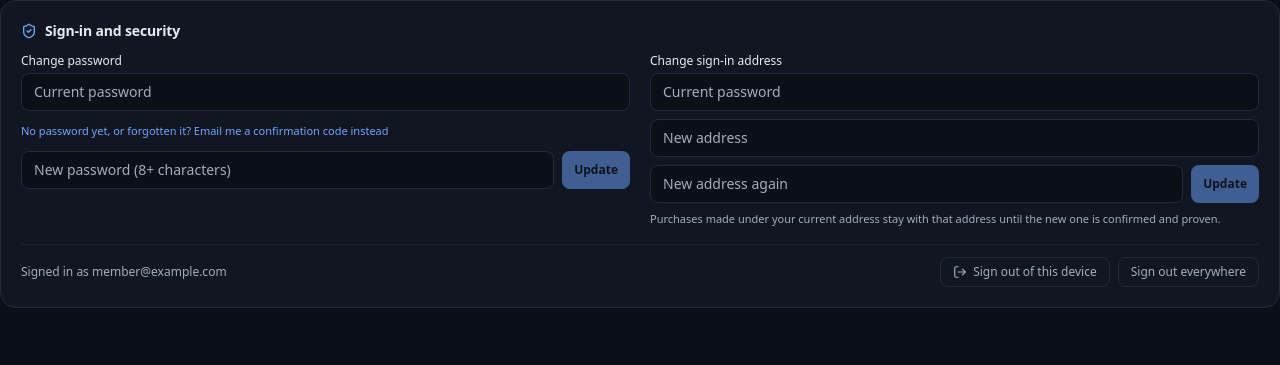
S12-060: a sign-in changes only after the account proves it is the account › once the server asks both addresses, the change needs the current password and the address twice
The width and height of the screenshot is (1280, 365).
Type "new@example.com" into the field labelled "New address" at (954, 138), box [650,119,1259,157]
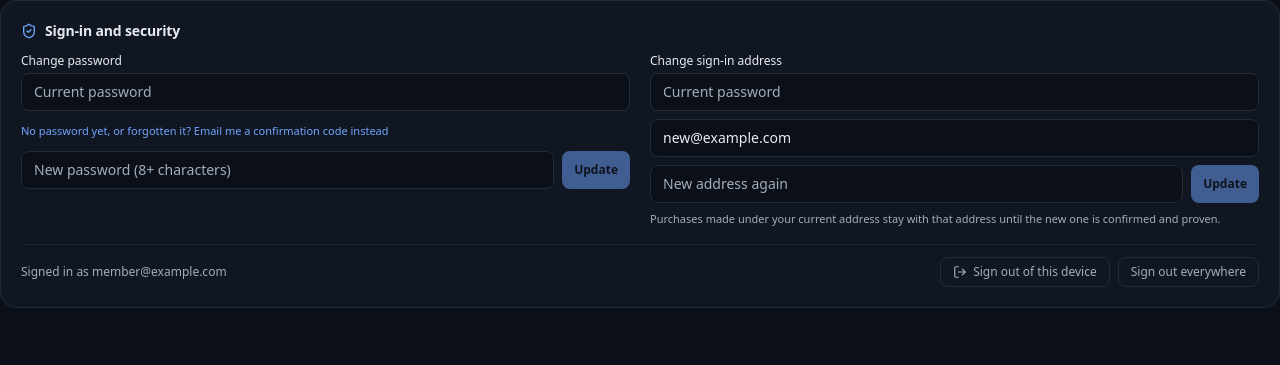
Type "neu@example.com" into the field labelled "New address again" at (917, 184), box [650,165,1183,203]
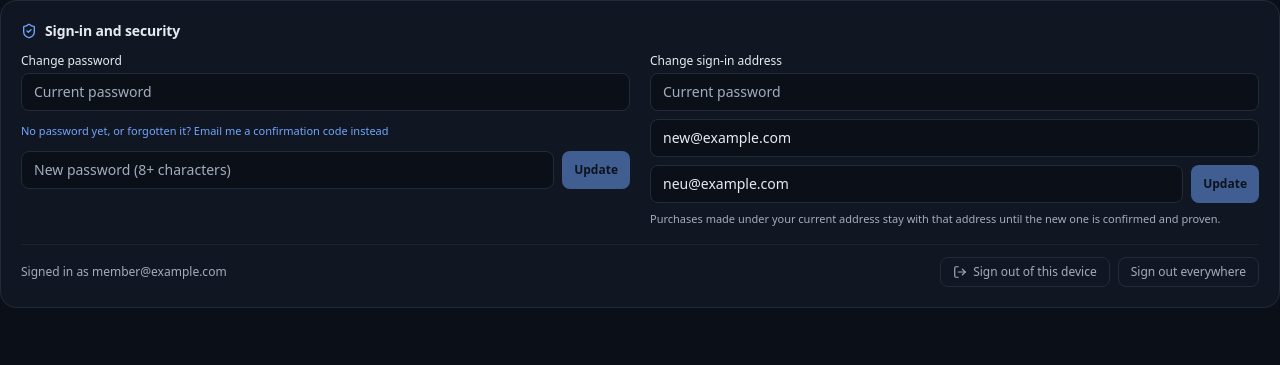
Type "hunter22" into the password field named "Current password, to change your address" at (954, 92), box [650,73,1259,111]
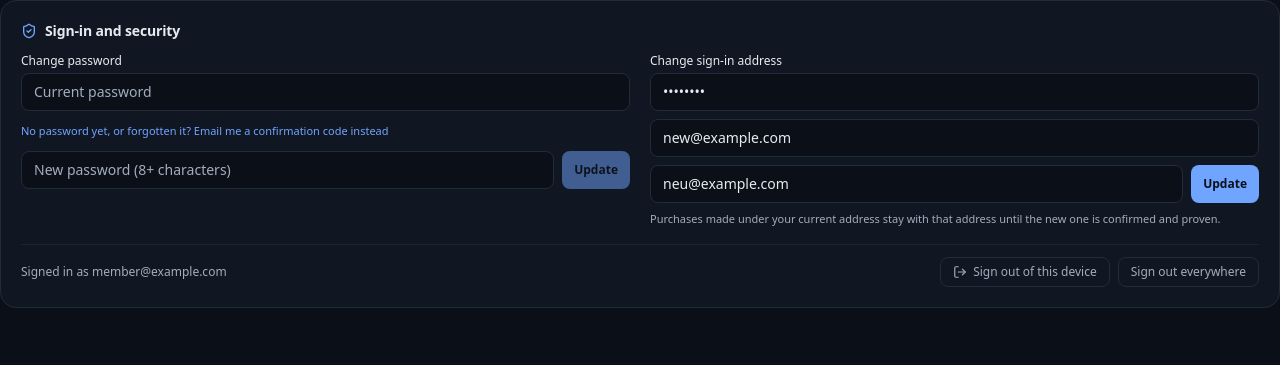
Click the 2nd button "Update" at (1225, 184), box [1191,165,1259,203]
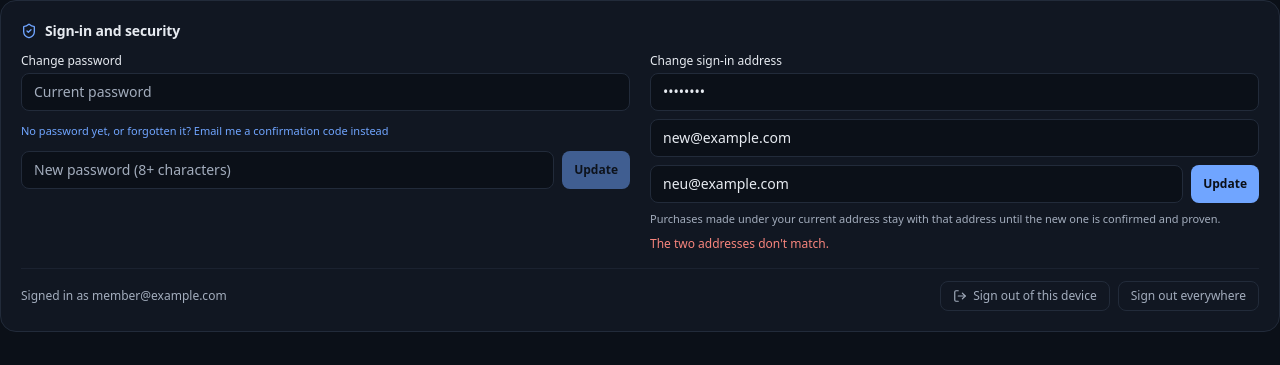
Expected: the text "The two addresses don't match." is shown, [650,234,829,252]
Replace the text in the field named "New address again" with "new@example.com" at (917, 184), box [650,165,1183,203]
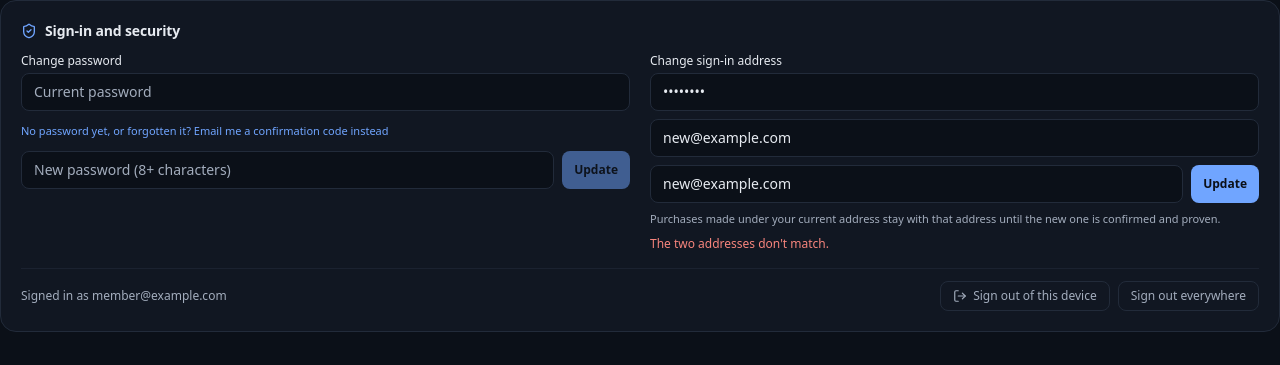
Click the 2nd button "Update" at (1225, 184), box [1191,165,1259,203]
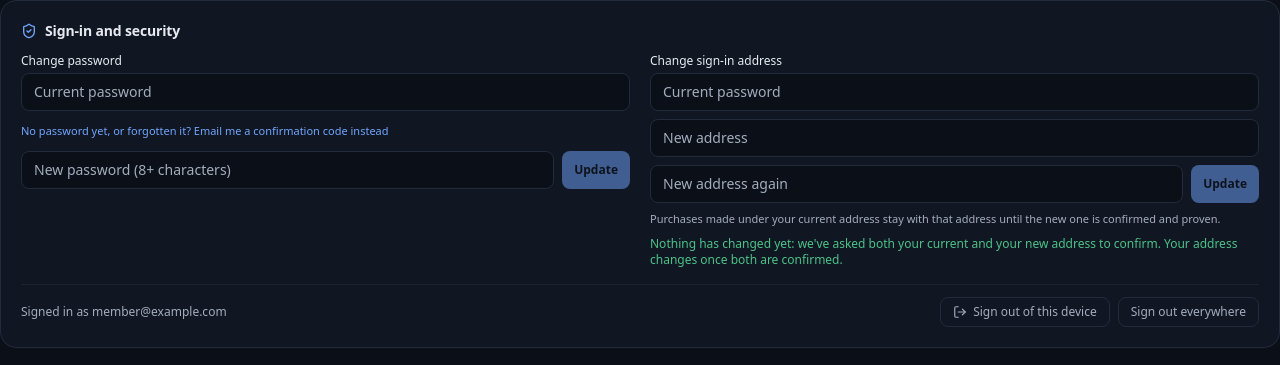
Expected: the text "asked both your current and your new address to confirm" is shown, [650,234,1237,268]
